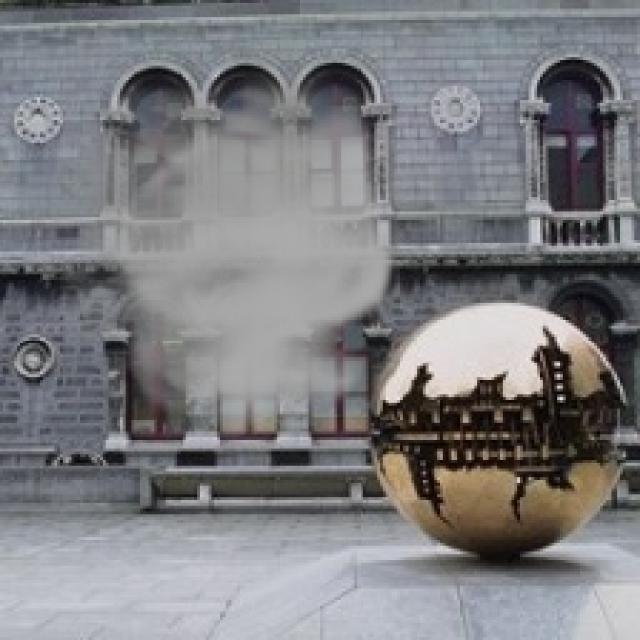smoke: (11, 54, 400, 440)
